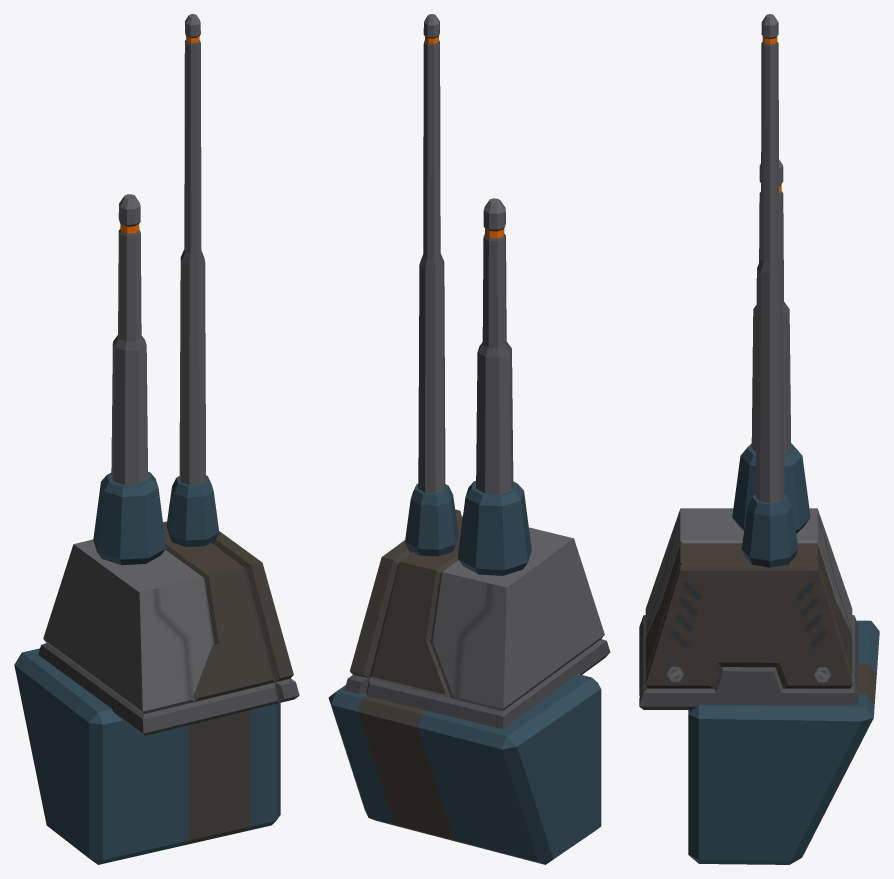
The model's file is SM_Mech_Back_01_Attach_Radio_01.fbx.
3 views of the same model, side by side, from view 1: azimuth 30°, elevation 25°; view 2: azimuth 150°, elevation 25°; view 3: azimuth 270°, elevation 25° (orthographic). The views are drawn at different scales.
Visible parts, largest first — view 1: SM_Mech_Back_01_Attach_Radio_01; view 2: SM_Mech_Back_01_Attach_Radio_01; view 3: SM_Mech_Back_01_Attach_Radio_01.
Boxes of the visible parts, <box> form: SM_Mech_Back_01_Attach_Radio_01: <box>14,14,299,864</box>; SM_Mech_Back_01_Attach_Radio_01: <box>328,14,610,864</box>; SM_Mech_Back_01_Attach_Radio_01: <box>639,14,879,864</box>.
Size of the model in its own units: 29.39 by 116 by 30.64.
